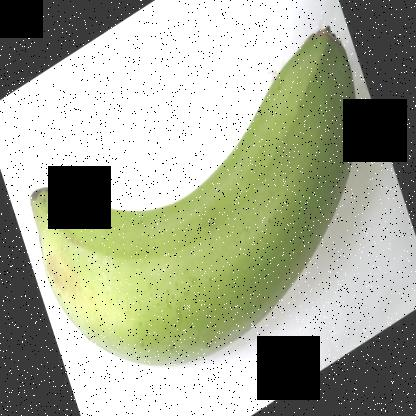freshunripe: (21, 12, 366, 381)
